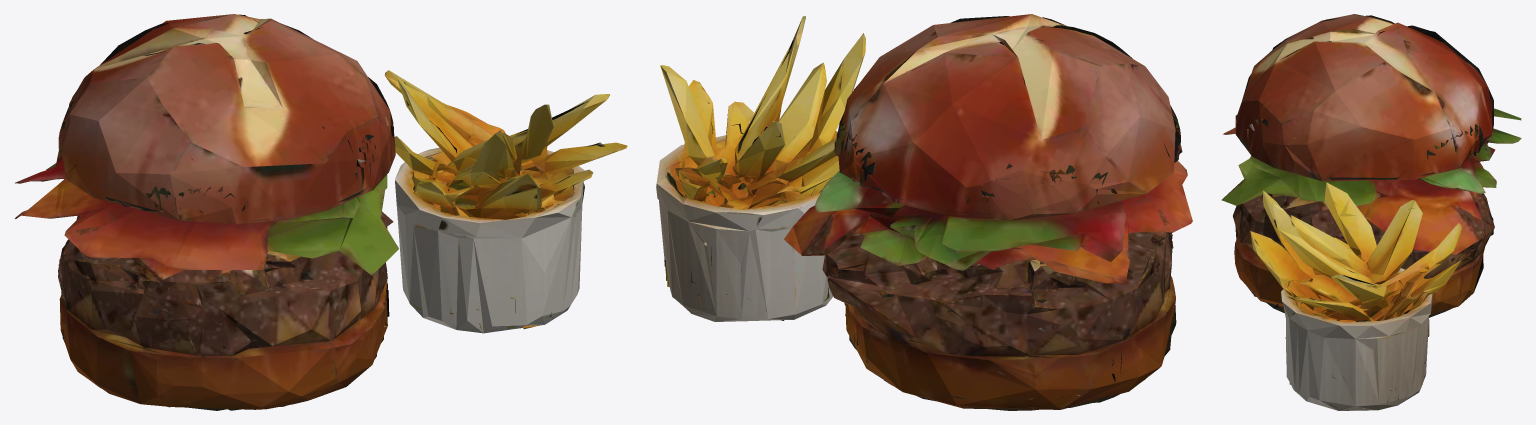
File: p_burger.glb
3 renders of one model, left to right at view 1: azimuth 30°, elevation 25°; view 2: azimuth 150°, elevation 25°; view 3: azimuth 270°, elevation 25°, orthographic. The views are drawn at different scales.
Parts seen in each view (by area): view 1: geometry_0 (×2); view 2: geometry_0 (×2); view 3: geometry_0 (×2).
Part boxes in pixels (<box>): geometry_0 (×2): <box>15,14,627,410</box>; geometry_0 (×2): <box>656,14,1192,410</box>; geometry_0 (×2): <box>1221,14,1521,410</box>.
Size of the model in its own units: 1.7 by 0.9928 by 1.07.
Materials: 2 (2 with a texture image).
